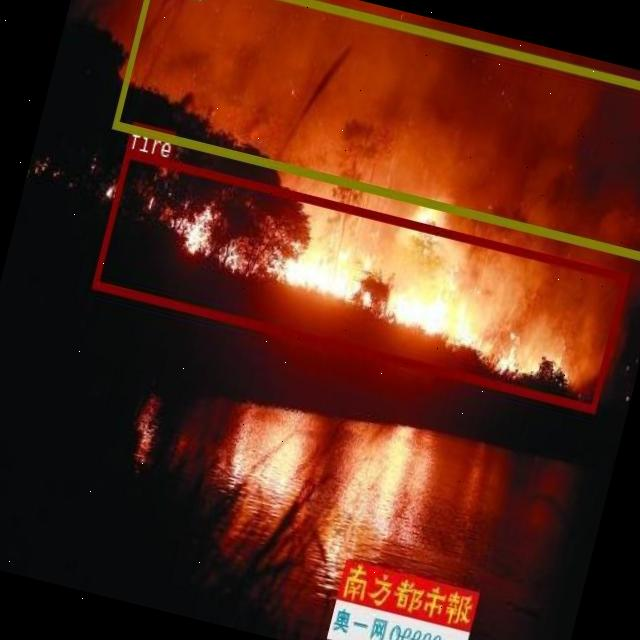fire: (91, 148, 628, 411)
smoke: (111, 0, 640, 260)
